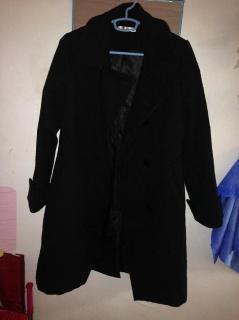long sleeve outwear: (27, 2, 224, 307)
